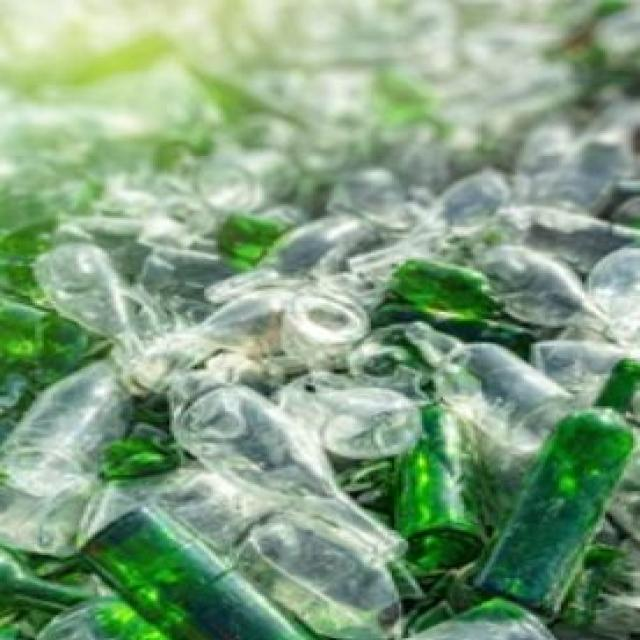electronic: (458, 356, 640, 617), (165, 380, 406, 566), (71, 504, 326, 640), (386, 252, 547, 345)
